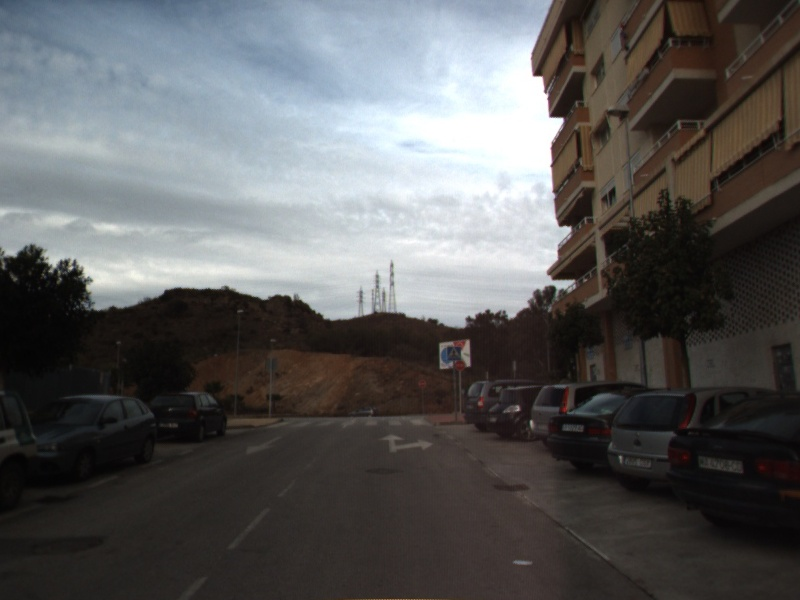STRAIGHT_RIGHT: (376, 431, 436, 456)
